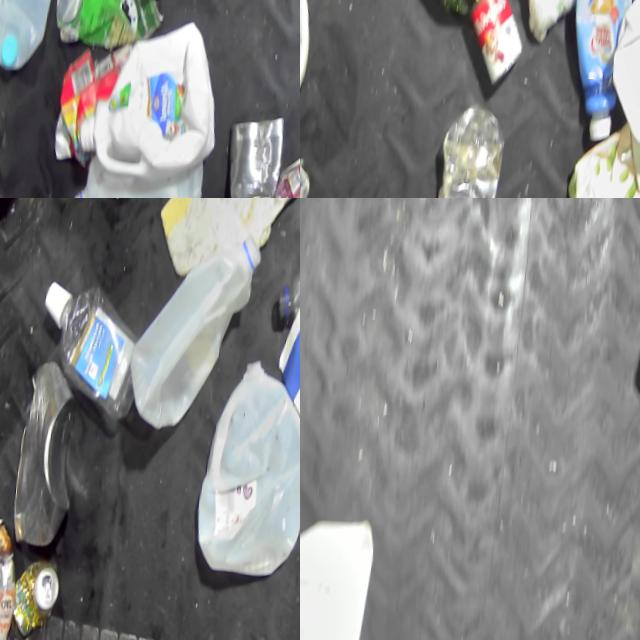can: (16, 361, 87, 541), (458, 0, 532, 94), (224, 109, 293, 198), (18, 549, 68, 639), (271, 138, 300, 198)
milk_jug: (124, 218, 265, 436), (76, 8, 231, 188), (199, 342, 300, 566), (300, 501, 384, 640), (70, 143, 211, 198), (0, 0, 67, 85)
non_white_jug: (560, 0, 640, 151)
